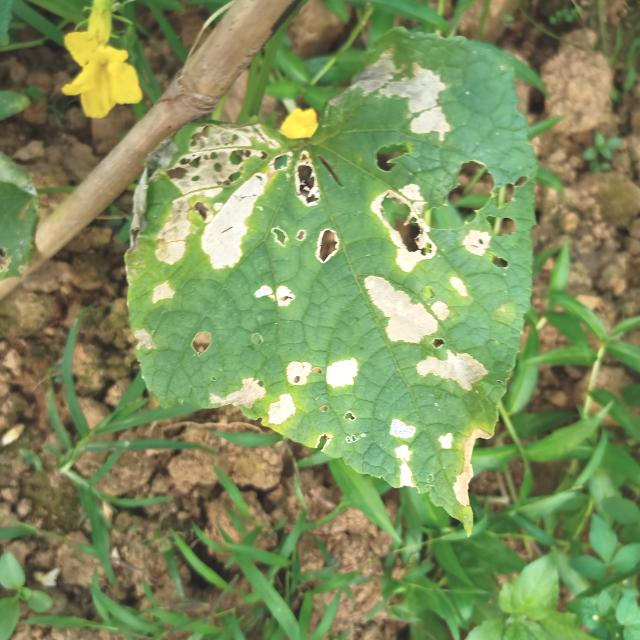disease_cucumber: (197, 270, 522, 508), (128, 113, 340, 376), (341, 48, 524, 284)
